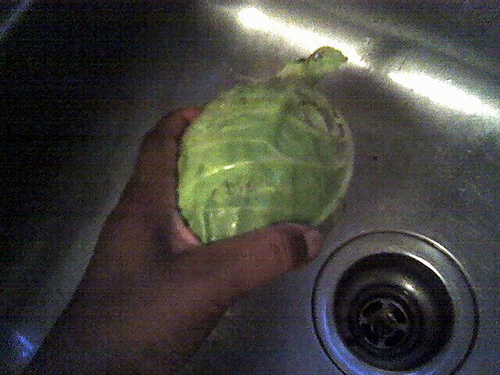cabbage: (175, 46, 354, 246)
